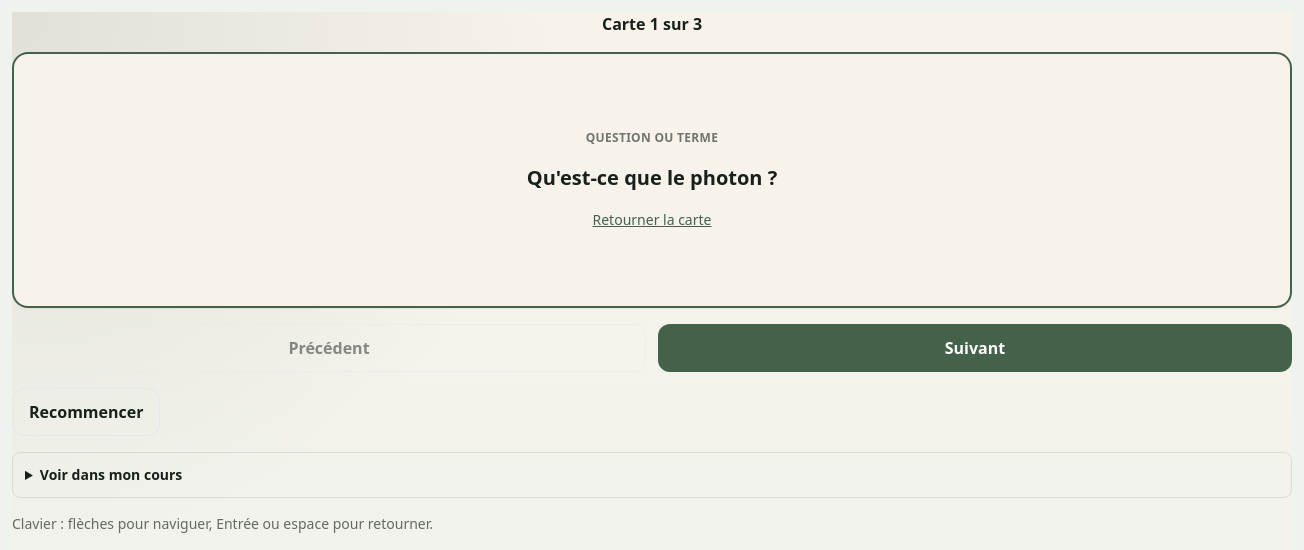
Scenario: FlashcardDeck › désactive Suivant sur la dernière carte
The image size is (1304, 550).
Click the button "Suivant" at (975, 348), box [658,324,1292,372]
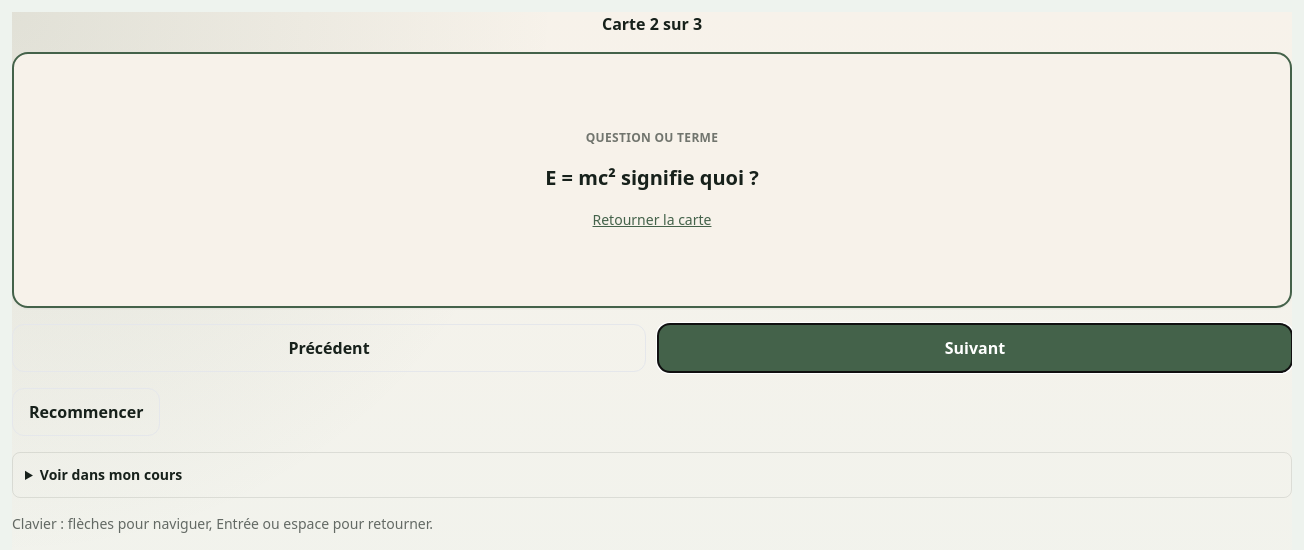
Click the button "Suivant" at (975, 348), box [658,324,1292,372]
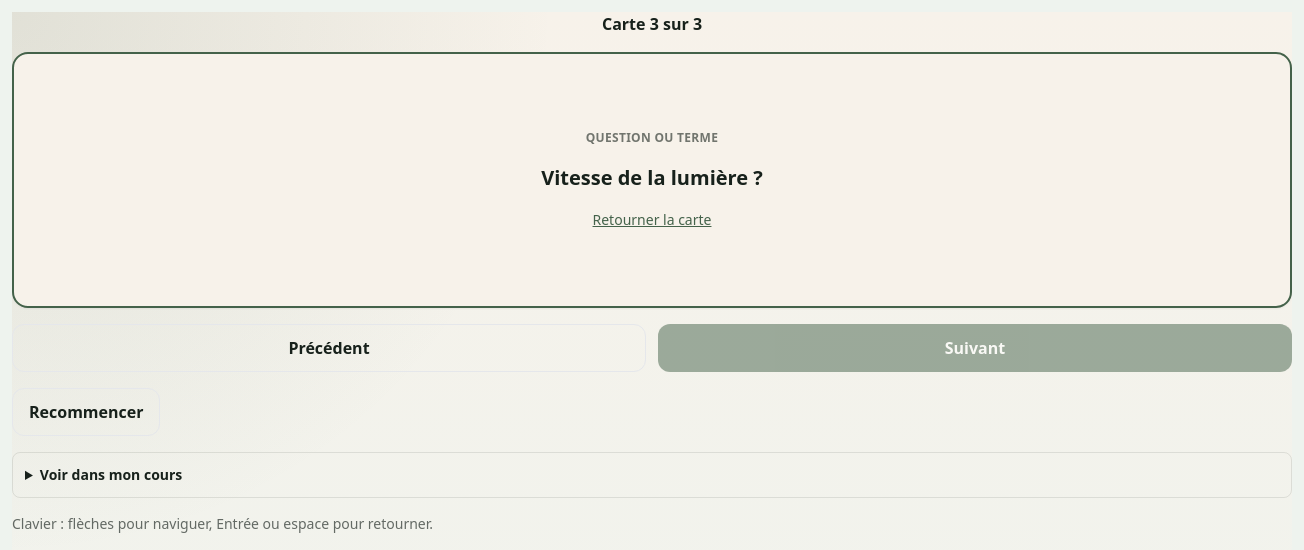
Expected: the text "Carte 3 sur 3" is shown, [602,13,702,35]
Expected: the button "Suivant" is disabled, [658,324,1292,372]
